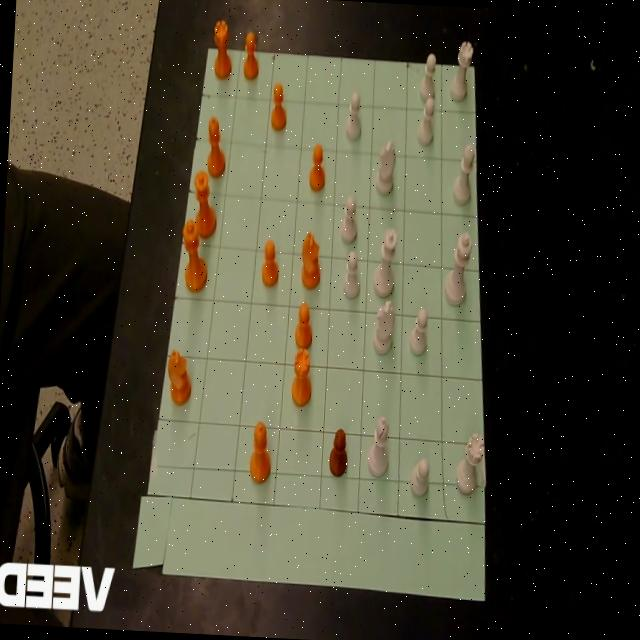orange_bishop: (248, 418, 274, 484), (205, 115, 228, 177)
orange_king: (180, 217, 210, 294)
orange_knight: (300, 230, 322, 288)
orange_pawn: (242, 29, 262, 80), (294, 298, 314, 348), (329, 428, 349, 476), (308, 140, 327, 190), (270, 81, 289, 131), (262, 238, 280, 287)
orange_queen: (192, 170, 220, 240)
orange_rook: (166, 348, 194, 406), (291, 346, 314, 406), (212, 17, 234, 79)
white_bishop: (452, 141, 476, 205), (368, 415, 390, 478)
white_king: (444, 228, 472, 304)
white_knight: (373, 296, 396, 354), (376, 138, 396, 194)
white_pawn: (408, 306, 429, 356), (340, 192, 360, 243), (346, 88, 364, 140), (420, 50, 438, 100), (344, 251, 362, 299), (410, 456, 431, 497), (418, 96, 435, 146)
white_queen: (373, 225, 398, 298)
white_rook: (456, 431, 483, 495), (450, 40, 472, 102)
